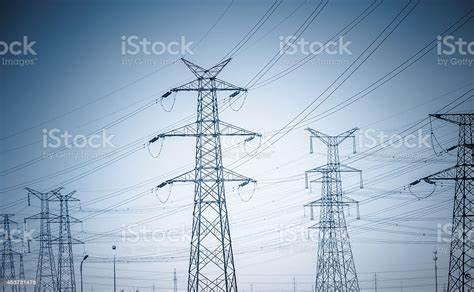power_tower: (152, 48, 268, 292), (300, 128, 371, 292), (19, 185, 61, 292), (53, 187, 85, 292)
